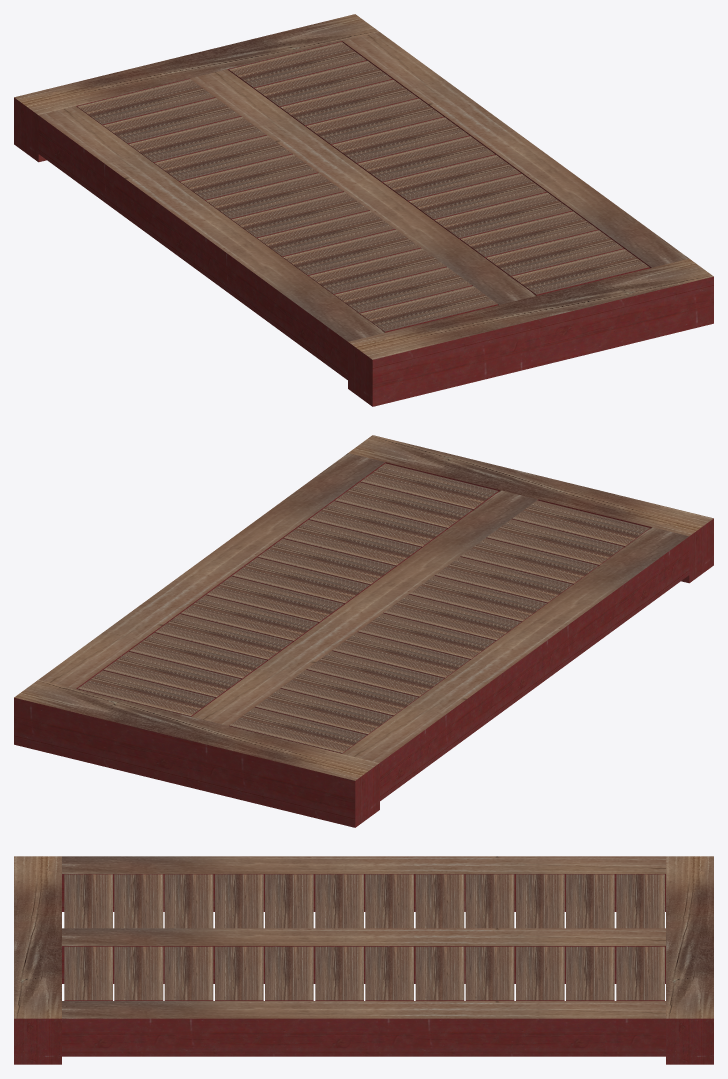
File: SM_F_Wood_2.fbx
3 views of the same model, one above another, from view 1: azimuth 30°, elevation 25°; view 2: azimuth 150°, elevation 25°; view 3: azimuth 270°, elevation 25° (orthographic). The views are drawn at different scales.
Parts seen in each view (by area): view 1: SM_F_Wood_2; view 2: SM_F_Wood_2; view 3: SM_F_Wood_2.
Boxes of the visible parts, x1=… form: SM_F_Wood_2: x1=14, y1=14, x2=713, y2=406; SM_F_Wood_2: x1=14, y1=435, x2=713, y2=827; SM_F_Wood_2: x1=14, y1=856, x2=713, y2=1064.
Size of the model in its own units: 169 by 307 by 22.2.
2 materials, 2 textured.
